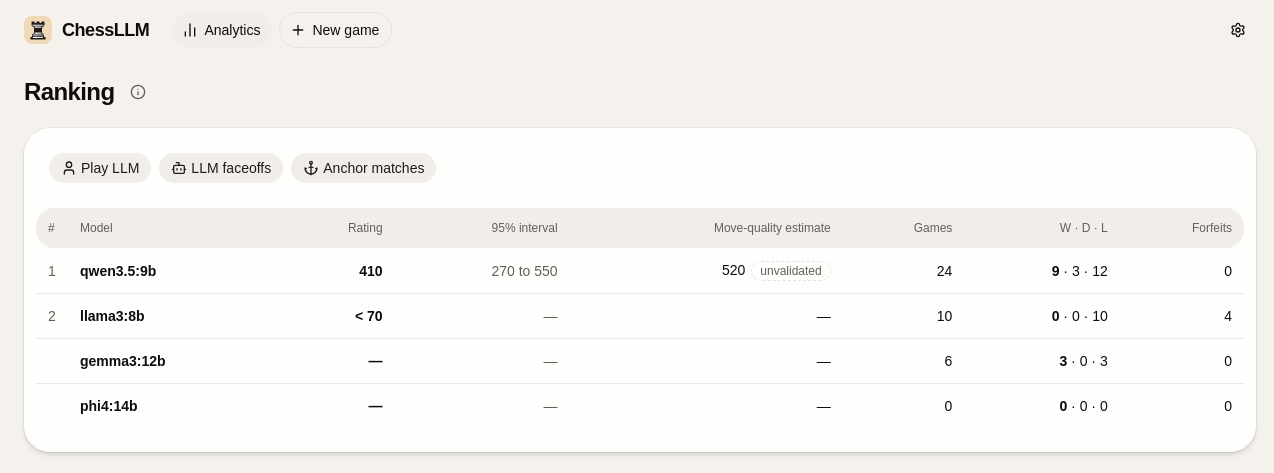
it: what the Ranking is, and the Reference configuration, are on hover, not on the page
The width and height of the screenshot is (1274, 473).
Expected: the text "qwen3.5:9b" is shown, [68, 248, 281, 294]
Expected: the text "Every model" is not shown
Step 1. Hover over the button named "About the Ranking" → [138, 92], box [122, 76, 154, 108]
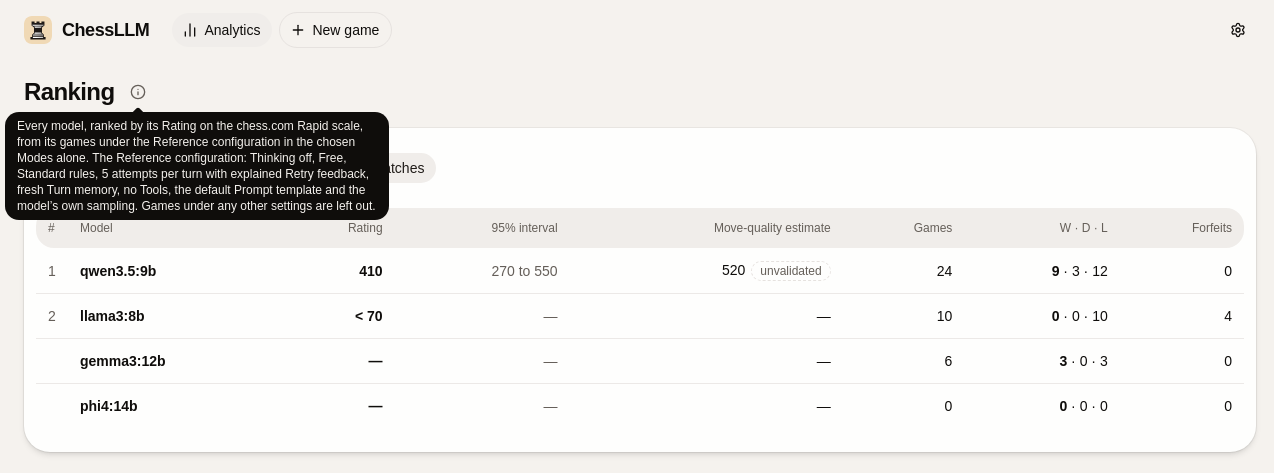
Expected: the text "Thinking off, Free, Standard rules, 5 attempts" is shown, [17, 119, 376, 213]
